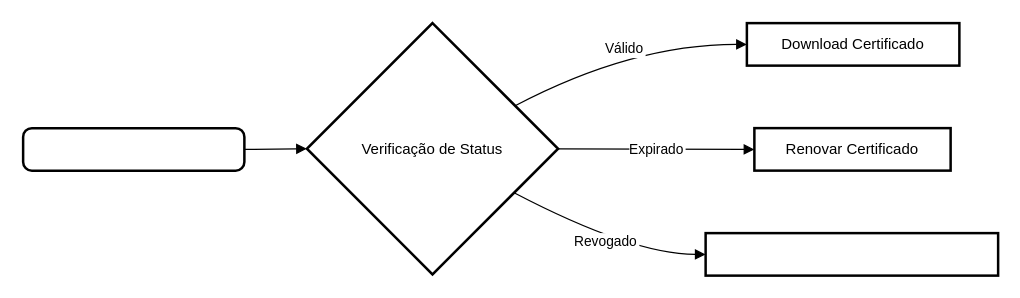
Some shapes in this 1020 by 298 pixel diagram are drawn without their labels. The centre of each missing label's shape, as x and y in pixels:
Analisar Motivos de Revogação: (x=851, y=253)
Certificados na Nuvem: (x=133, y=148)
